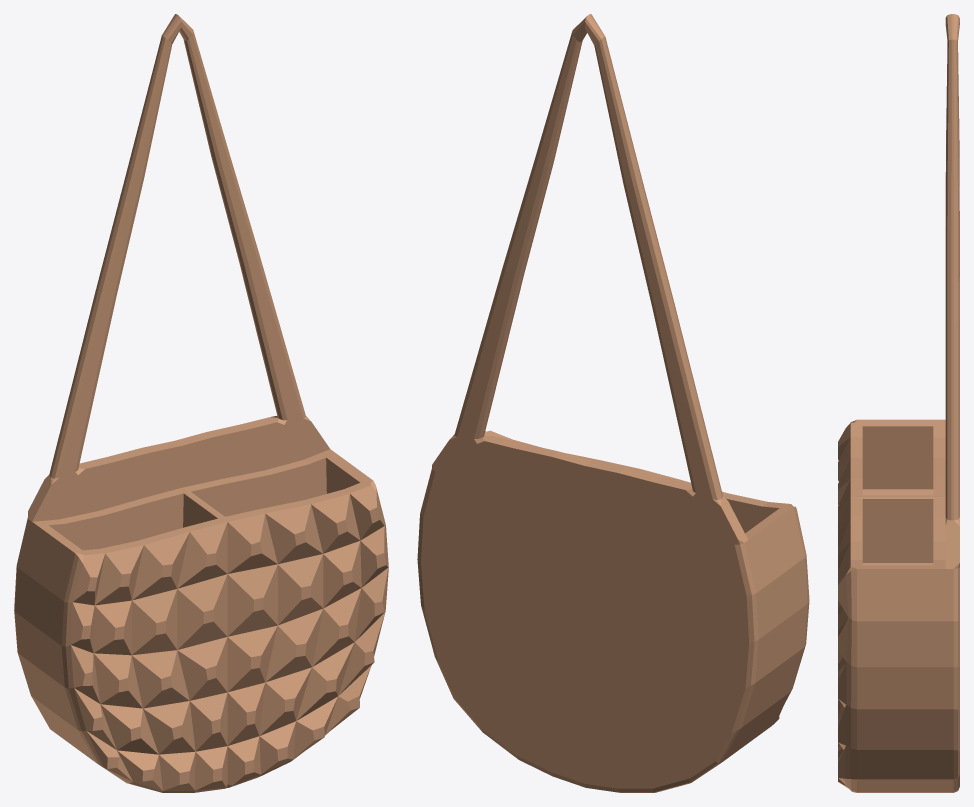
The model's file is Hanging_basket.fbx.
3 renders of one model, left to right at view 1: azimuth 30°, elevation 25°; view 2: azimuth 150°, elevation 25°; view 3: azimuth 270°, elevation 25°, orthographic. The views are drawn at different scales.
Parts seen in each view (by area): view 1: Hanging_basket; view 2: Hanging_basket; view 3: Hanging_basket.
Part boxes in pixels (bbox=[...]): Hanging_basket: bbox=[14, 14, 388, 792]; Hanging_basket: bbox=[417, 14, 809, 792]; Hanging_basket: bbox=[838, 14, 959, 792].
Size of the model in its own units: 25.48 by 55.25 by 8.05.
